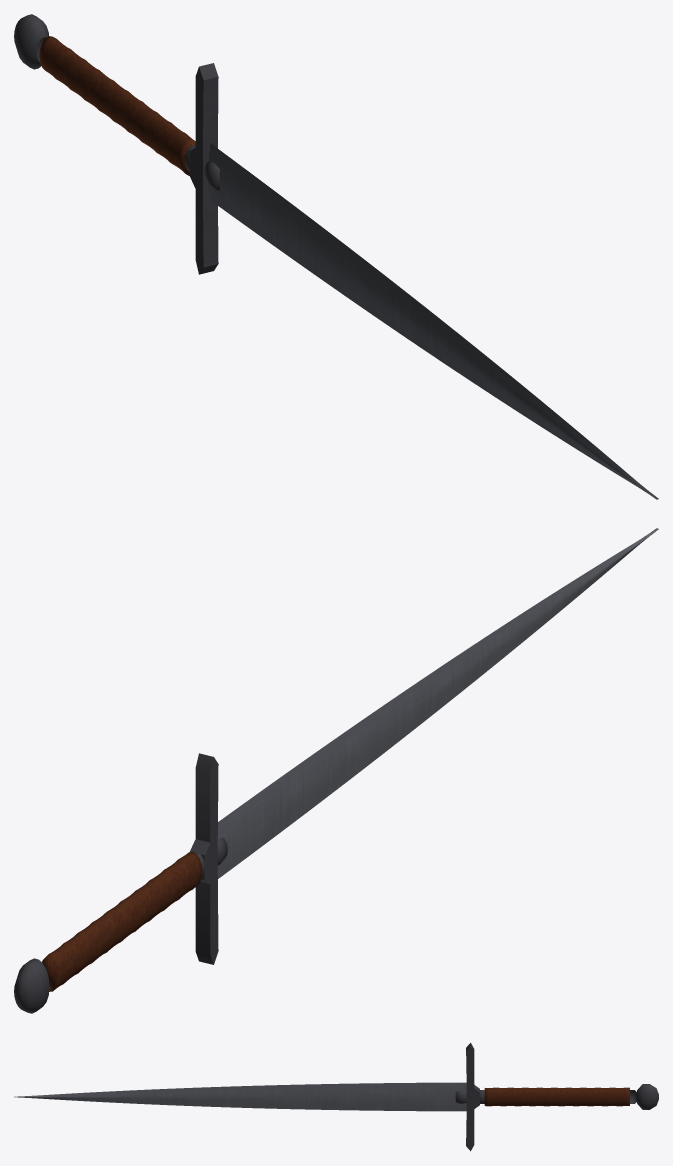
File: weapon_parish_blade.glb
The picture shows the model from 3 angles, top to bottom: view 1: azimuth 30°, elevation 25°; view 2: azimuth 150°, elevation 25°; view 3: azimuth 270°, elevation 25°; orthographic projection. The views are drawn at different scales.
Visible parts, largest first — view 1: parish_blade; view 2: parish_blade; view 3: parish_blade.
Part boxes in pixels (x1,y1,x2,y2): parish_blade: [14, 14, 658, 499]; parish_blade: [14, 528, 658, 1013]; parish_blade: [14, 1042, 658, 1151].
Size of the model in its own units: 0.0264 by 0.2 by 1.11.
Materials: 3 (3 with a texture image).
